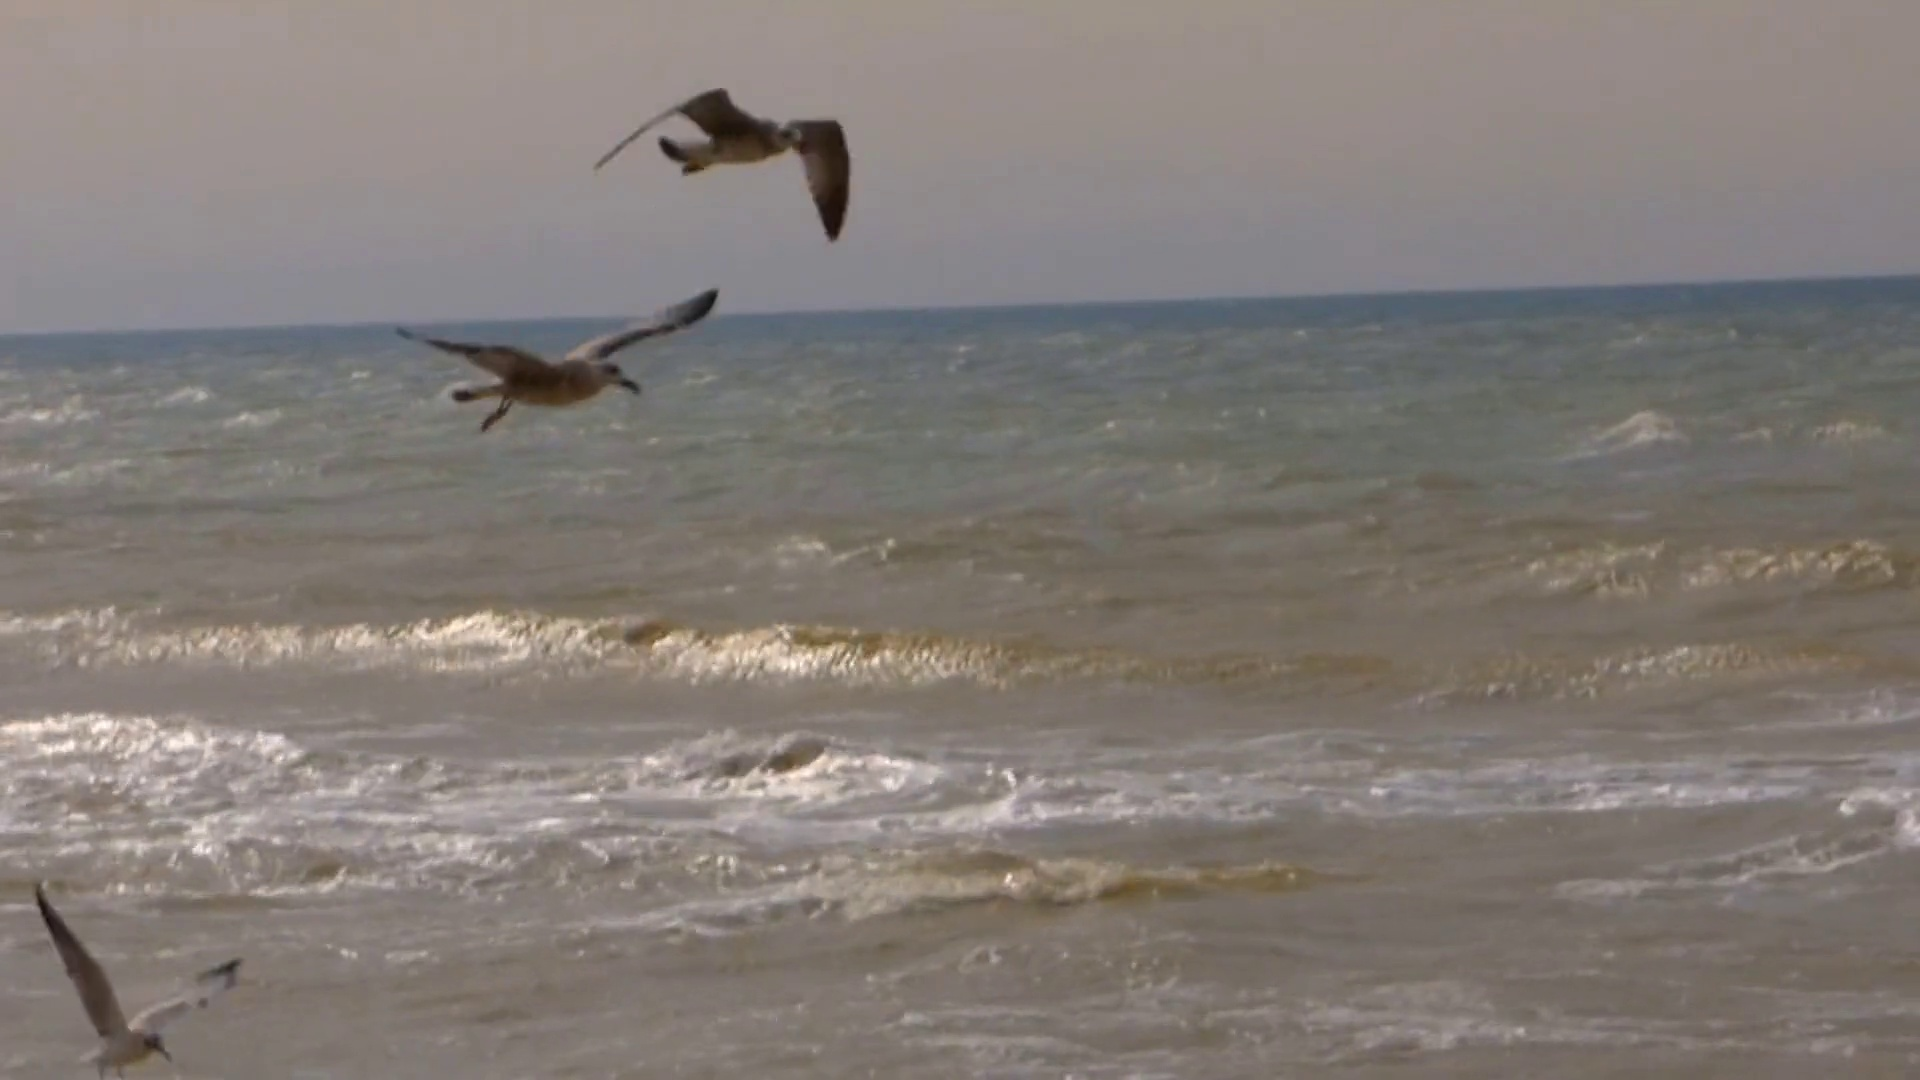bird: (394, 298, 721, 429), (33, 880, 240, 1079), (595, 87, 852, 243)
